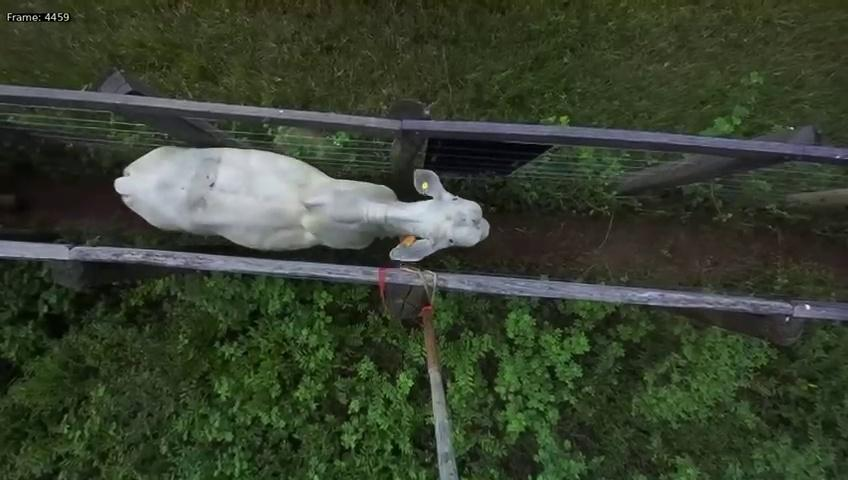cattle: (116, 138, 489, 264)
